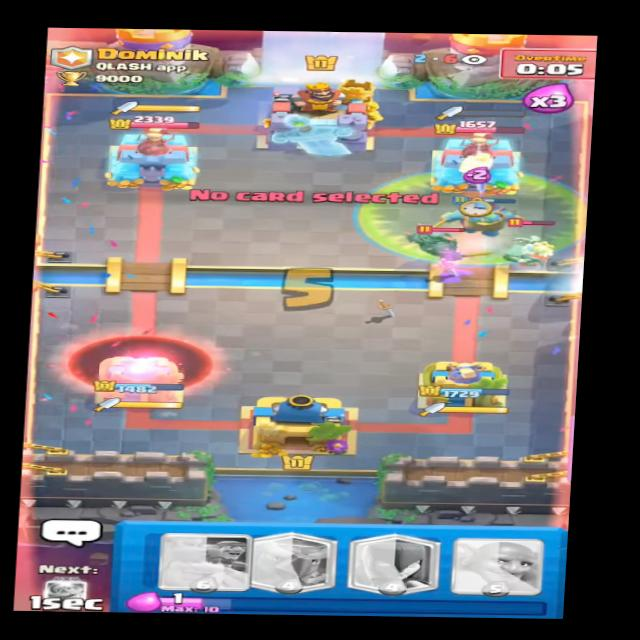Pekka: (397, 220, 478, 259)
Royalghost: (506, 217, 566, 266)
Void: (59, 332, 216, 392)
